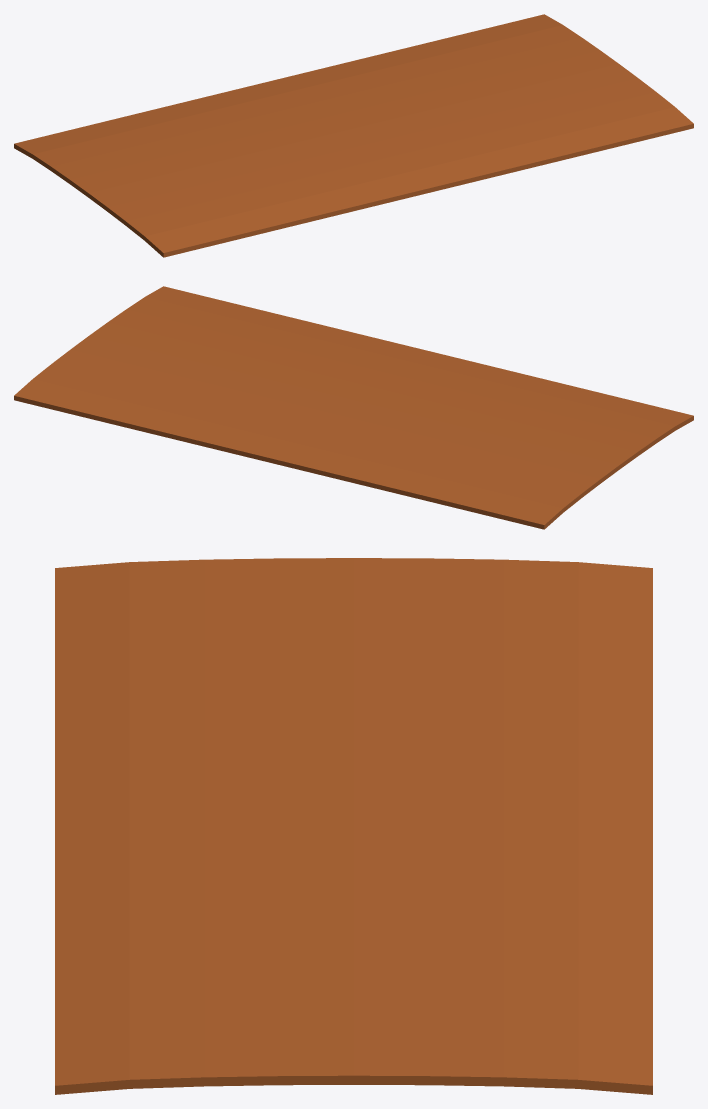
The model's file is Camino.fbx.
3 views of the same model, one above another, from view 1: azimuth 30°, elevation 25°; view 2: azimuth 150°, elevation 25°; view 3: azimuth 270°, elevation 25° (orthographic). The views are drawn at different scales.
Visible parts, largest first — view 1: Cube; view 2: Cube; view 3: Cube.
Boxes of the visible parts, x1=… form: Cube: x1=14, y1=14, x2=693, y2=257; Cube: x1=14, y1=286, x2=693, y2=529; Cube: x1=55, y1=558, x2=652, y2=1094.
Bounding box in the file's own units: 781 × 13.52 × 381.
